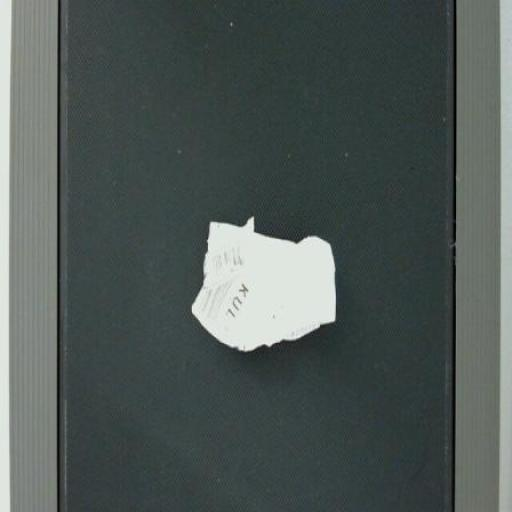paper: (137, 128, 390, 424)
